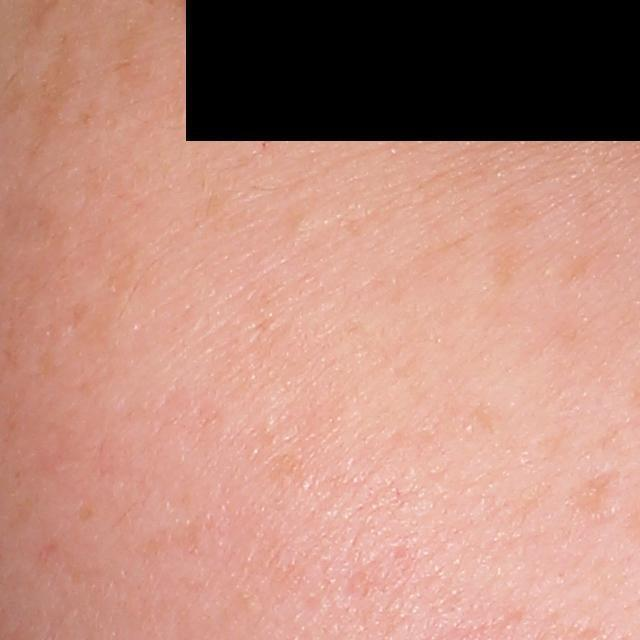melasma: (26, 28, 86, 165), (110, 18, 158, 113), (567, 461, 628, 521), (490, 239, 530, 291), (486, 193, 540, 231), (558, 247, 592, 289)
